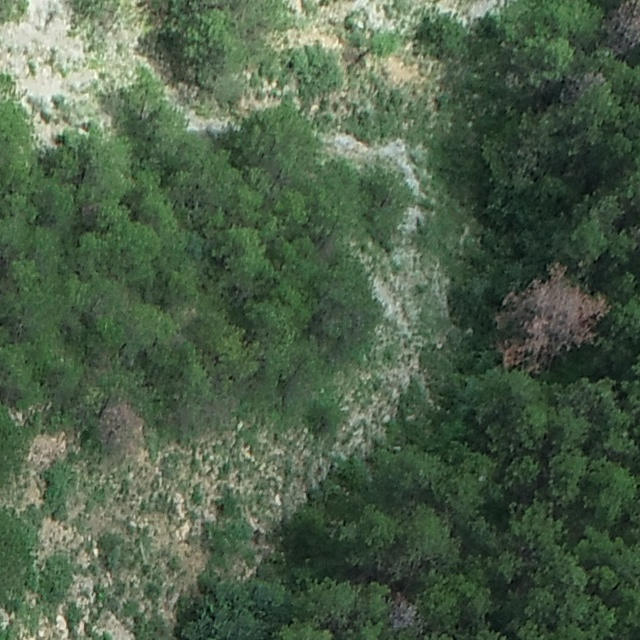unhealthy: (491, 260, 616, 368), (605, 0, 639, 54), (100, 400, 138, 438), (387, 593, 420, 631)
